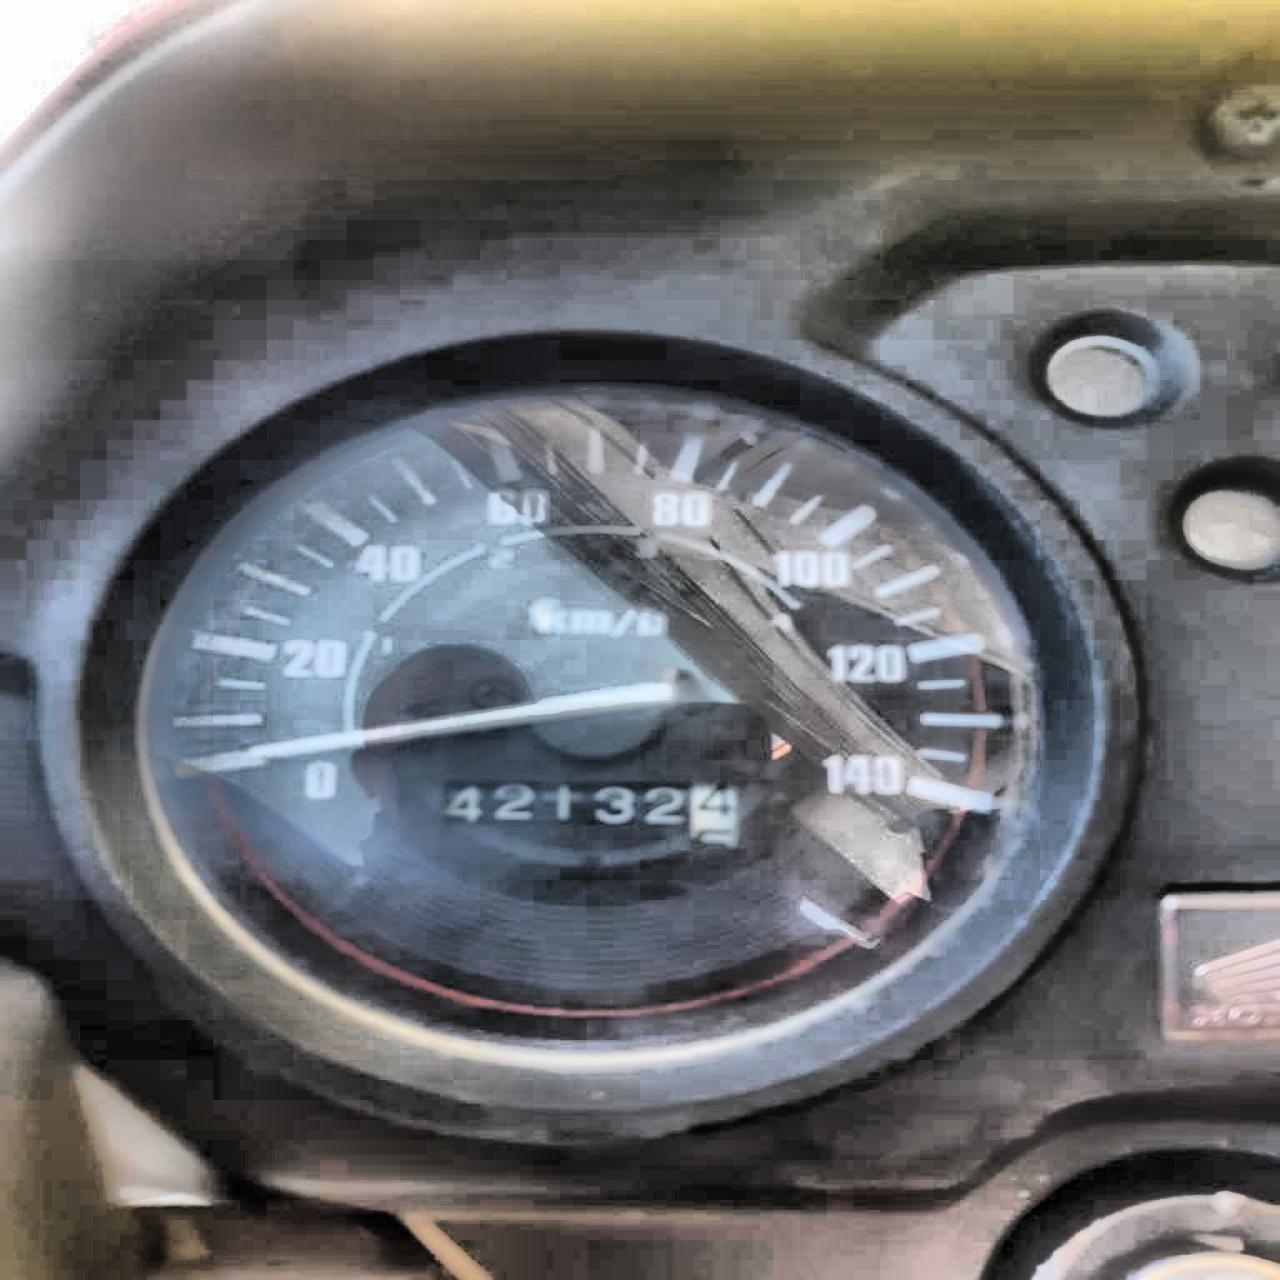1: (551, 781, 572, 821)
2: (640, 785, 683, 825), (490, 781, 533, 821)
3: (592, 785, 635, 824)
4: (440, 783, 483, 823), (695, 784, 734, 815)
odometer: (436, 775, 742, 847)
